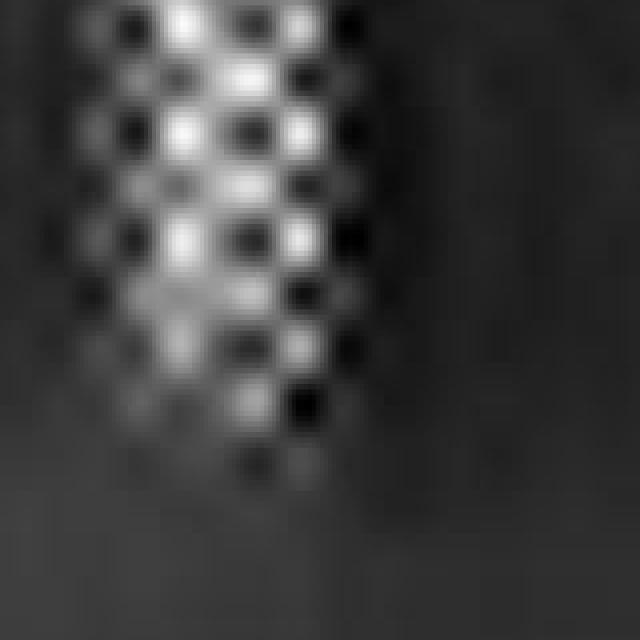person: (73, 1, 365, 438)
